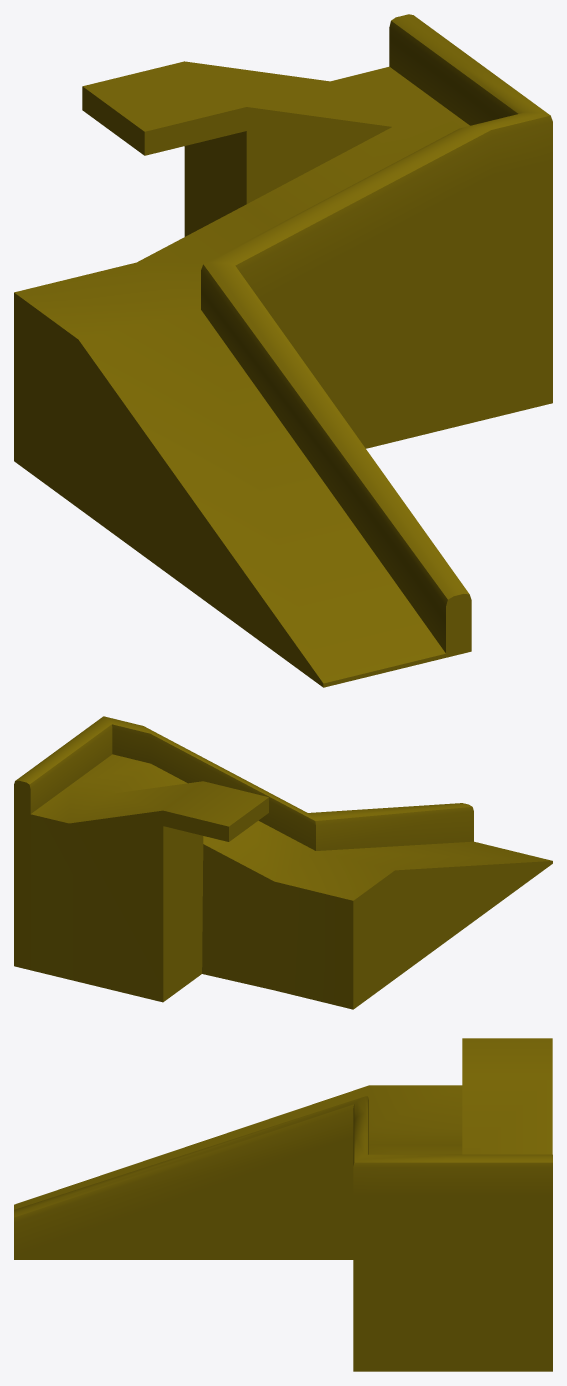
The model's file is Prop_RuinStairs.FBX.
The picture shows the model from 3 angles, top to bottom: view 1: azimuth 30°, elevation 25°; view 2: azimuth 150°, elevation 25°; view 3: azimuth 270°, elevation 25°; orthographic projection. The views are drawn at different scales.
Visible parts, largest first — view 1: Ruin Stairs; view 2: Ruin Stairs; view 3: Ruin Stairs.
Part boxes in pixels (x1,y1,x2,y2): Ruin Stairs: [14, 14, 552, 687]; Ruin Stairs: [14, 716, 552, 1009]; Ruin Stairs: [14, 1038, 552, 1371].
Size of the model in its own units: 650 by 399 by 903.
